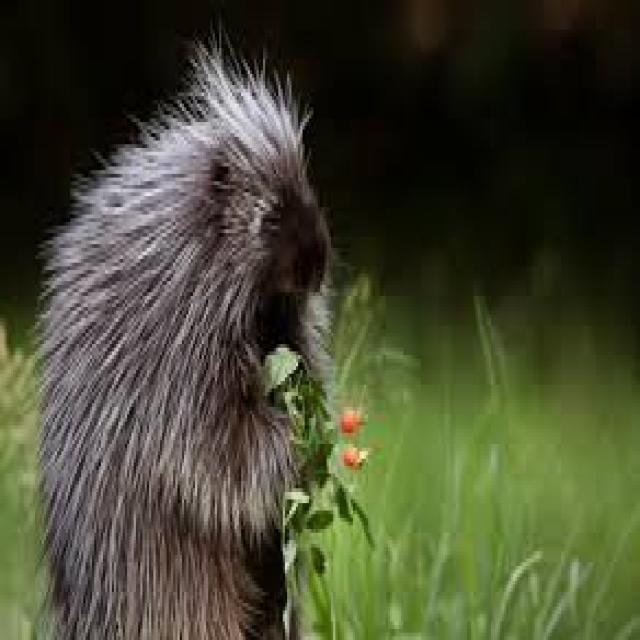Porcupine: (61, 88, 332, 640)
